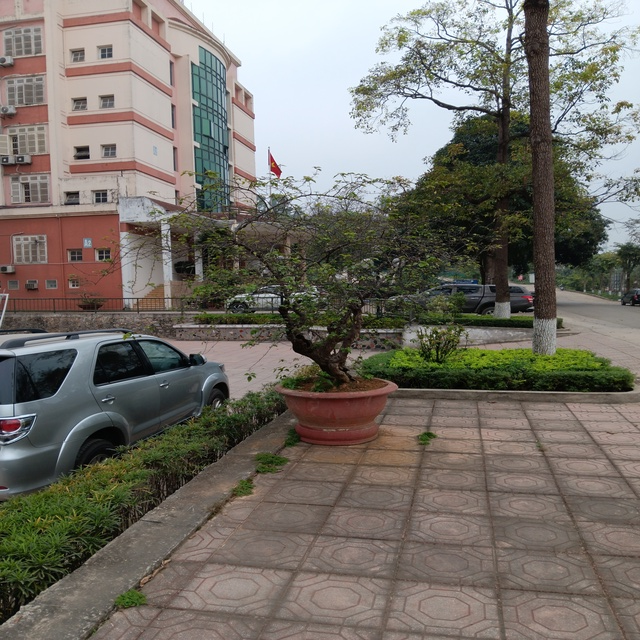caycanh: (211, 178, 430, 448)
